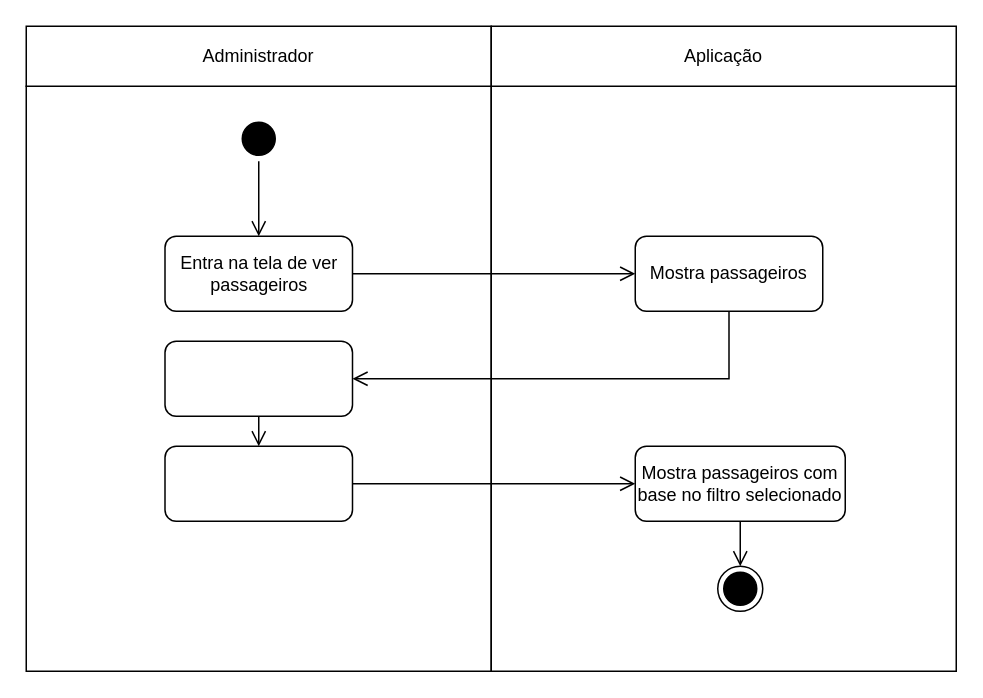
This 983x698 diagram has some shape labels left out. Here are the shapes that lost their labels. From the top down, the centre of each, then its label:
At [258,378]: "Escolhe filtros".
At [258,483]: "Pesquisa por passageiros utilizando o filtro".
